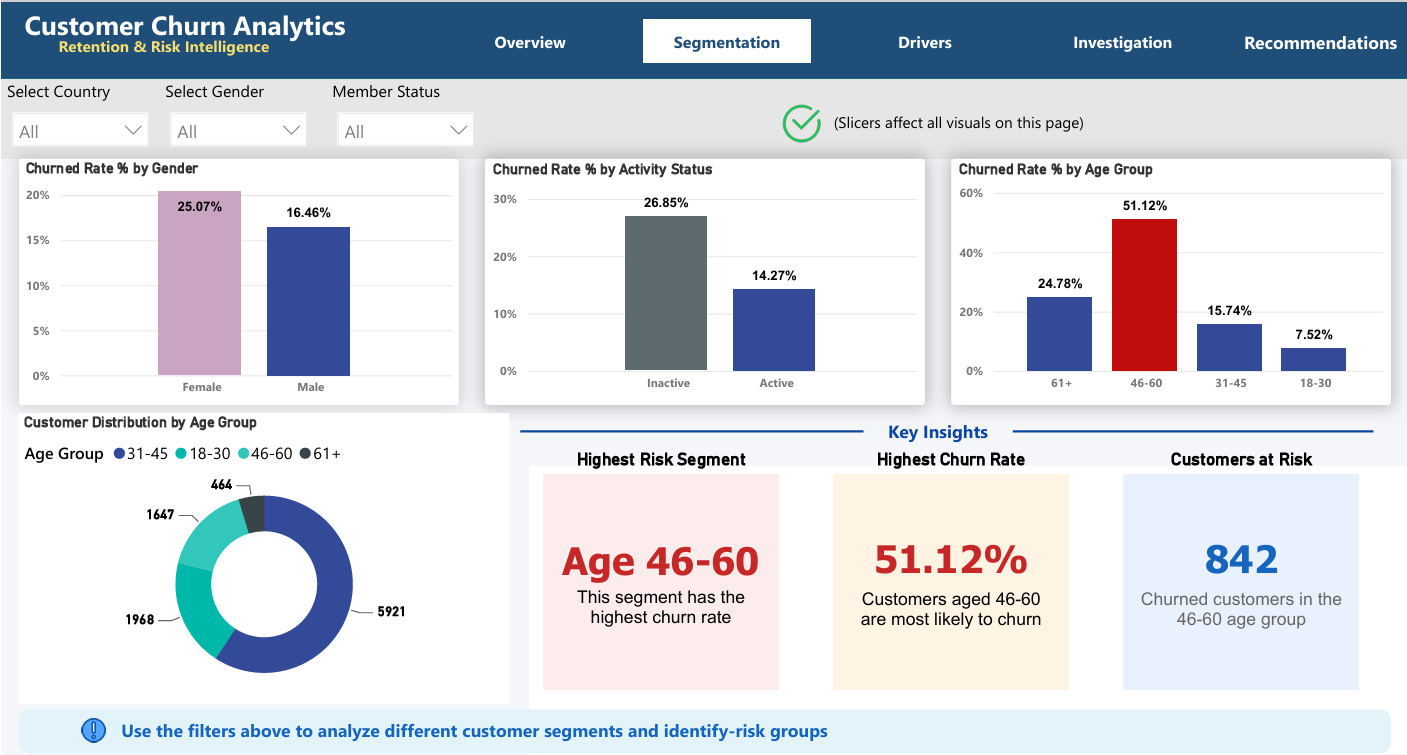

What the dashboard file says about the page in this screenshot:
{"tool":"powerbi","page":{"name":"Customer Segmentation","canvas":[1280,720],"ordinal":1},"visuals":[{"type":"shape","box":[480,456,800,264],"z":0},{"type":"shape","box":[-3,24,1320,80],"z":1000},{"type":"textbox","box":[16,32,304,48],"z":2000},{"type":"textbox","box":[46.5,59.4,212.8,44.5],"z":3000},{"type":"actionButton","box":[584,49.5,152.4,39.6],"z":4000},{"type":"actionButton","box":[764,49.5,152.4,39.6],"z":5000},{"type":"actionButton","box":[944,49.5,152.4,39.6],"z":6000},{"type":"shape","box":[0,104,1320,72],"z":7000},{"type":"actionButton","box":[1124,49.5,152.4,39.6],"z":8000},{"type":"actionButton","box":[404.8,49.5,152.4,39.6],"z":9000},{"type":"slicer","title":"Select Country","fields":{"Values":["FactCustomer.Geography"]},"box":[0,104,144,80],"z":10000},{"type":"slicer","title":"Select Gender","fields":{"Values":["FactCustomer.Gender"]},"box":[144,104,144,80],"z":11000},{"type":"slicer","title":"Member Status","fields":{"Values":["FactCustomer.Member Status"]},"box":[296,104,144,72],"z":12000},{"type":"clusteredColumnChart","title":"Churned Rate % by Activity Status","fields":{"Y":["FactCustomer.Churned Rate %"],"Category":["FactCustomer.Member Status"]},"box":[440,176,400,224],"z":13000},{"type":"clusteredColumnChart","title":"Churned Rate % by Gender","fields":{"Y":["FactCustomer.Churned Rate %"],"Category":["FactCustomer.Gender"]},"box":[16,176,400,224],"z":14000},{"type":"clusteredColumnChart","title":"Churned Rate % by Age Group","fields":{"Y":["FactCustomer.Churned Rate %"],"Category":["FactCustomer.Age Group"]},"box":[864,176,400,224],"z":15000},{"type":"donutChart","title":"Customer Distribution by Age Group","fields":{"Y":["FactCustomer.Total Customers"],"Category":["FactCustomer.Age Group"]},"box":[16,408,446,264],"z":16000},{"type":"textbox","box":[752,128,240,32],"z":17000},{"type":"shape","box":[16,677,1248,40],"z":18000},{"type":"cardVisual","title":"Highest Risk Segment","fields":{"Data":["FactCustomer.Top Risk Segment"]},"box":[488,440,224,224],"z":19000},{"type":"textbox","box":[776,408,152,40],"z":20000},{"type":"shape","box":[472,416,312,16],"z":21000},{"type":"shape","box":[920,416,328,16],"z":22000},{"type":"cardVisual","title":"Highest Churn Rate","fields":{"Data":["FactCustomer.Top Risk Churn %"]},"box":[752,440,224,224],"z":23000},{"type":"cardVisual","title":"Customers at Risk","fields":{"Data":["FactCustomer.Top Risk Churned Customers"]},"box":[1016,440,224,224],"z":24000},{"type":"textbox","box":[104,680,800,32],"z":25000},{"type":"image","box":[64,680,40,32],"z":26000},{"type":"image","box":[680,120,96,48],"z":27000}]}

Visuals, with their boxes on the page's 1280x720 design canvas (x1, y1, x2, y2). These are canvas units, not pixel positions in the 1407x755 screenshot, which may show the page scaled, cropped or inside an application window:
shape: x1=480 y1=456 x2=1280 y2=720
shape: x1=-3 y1=24 x2=1317 y2=104
textbox: x1=16 y1=32 x2=320 y2=80
textbox: x1=46 y1=59 x2=259 y2=104
actionButton: x1=584 y1=50 x2=736 y2=89
actionButton: x1=764 y1=50 x2=916 y2=89
actionButton: x1=944 y1=50 x2=1096 y2=89
shape: x1=0 y1=104 x2=1320 y2=176
actionButton: x1=1124 y1=50 x2=1276 y2=89
actionButton: x1=405 y1=50 x2=557 y2=89
"Select Country" slicer: x1=0 y1=104 x2=144 y2=184
"Select Gender" slicer: x1=144 y1=104 x2=288 y2=184
"Member Status" slicer: x1=296 y1=104 x2=440 y2=176
"Churned Rate % by Activity Status" clusteredColumnChart: x1=440 y1=176 x2=840 y2=400
"Churned Rate % by Gender" clusteredColumnChart: x1=16 y1=176 x2=416 y2=400
"Churned Rate % by Age Group" clusteredColumnChart: x1=864 y1=176 x2=1264 y2=400
"Customer Distribution by Age Group" donutChart: x1=16 y1=408 x2=462 y2=672
textbox: x1=752 y1=128 x2=992 y2=160
shape: x1=16 y1=677 x2=1264 y2=717
"Highest Risk Segment" cardVisual: x1=488 y1=440 x2=712 y2=664
textbox: x1=776 y1=408 x2=928 y2=448
shape: x1=472 y1=416 x2=784 y2=432
shape: x1=920 y1=416 x2=1248 y2=432
"Highest Churn Rate" cardVisual: x1=752 y1=440 x2=976 y2=664
"Customers at Risk" cardVisual: x1=1016 y1=440 x2=1240 y2=664
textbox: x1=104 y1=680 x2=904 y2=712
image: x1=64 y1=680 x2=104 y2=712
image: x1=680 y1=120 x2=776 y2=168
